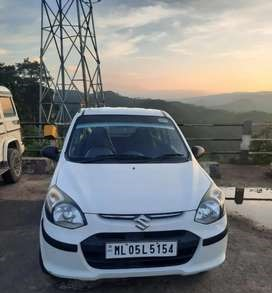ML05L5154: (104, 241, 176, 258)
